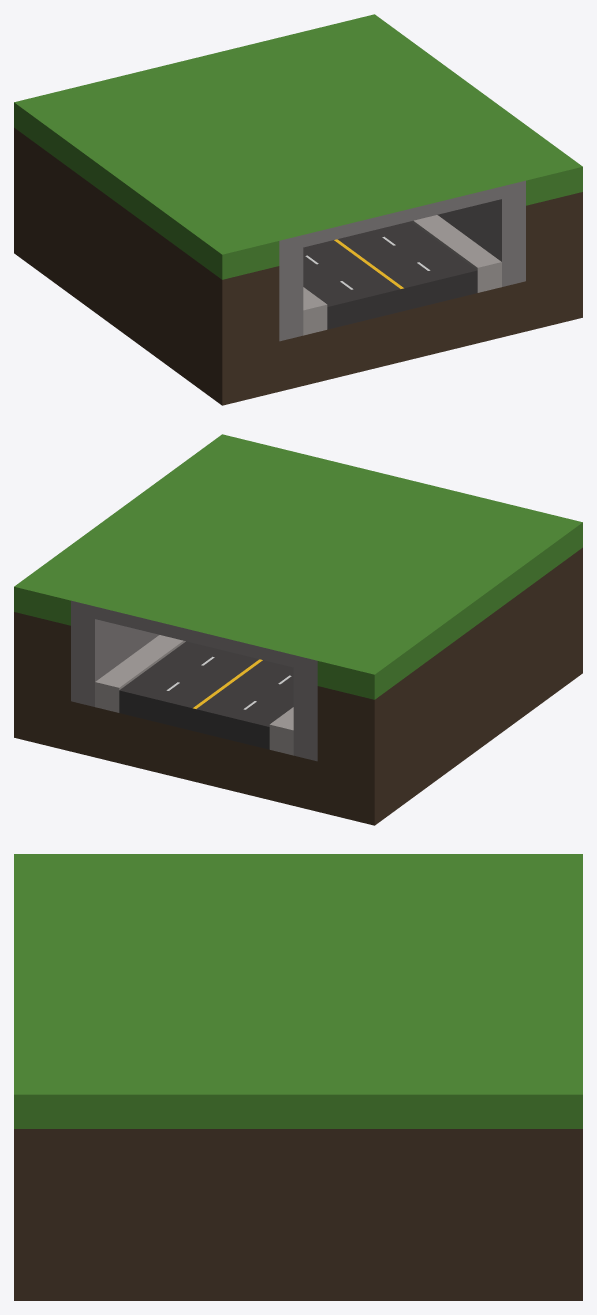
Rendered from tiles-tile-mainroad-tunnel.glb.
3 renders of one model, top to bottom at view 1: azimuth 30°, elevation 25°; view 2: azimuth 150°, elevation 25°; view 3: azimuth 270°, elevation 25°, orthographic. The views are drawn at different scales.
Parts seen in each view (by area): view 1: tile-mainroad-tunnel; view 2: tile-mainroad-tunnel; view 3: tile-mainroad-tunnel.
Boxes of the visible parts, bbox=[...] form: tile-mainroad-tunnel: bbox=[14, 14, 582, 405]; tile-mainroad-tunnel: bbox=[14, 434, 582, 825]; tile-mainroad-tunnel: bbox=[14, 854, 582, 1300].
Size of the model in its own units: 30 by 12 by 30.
